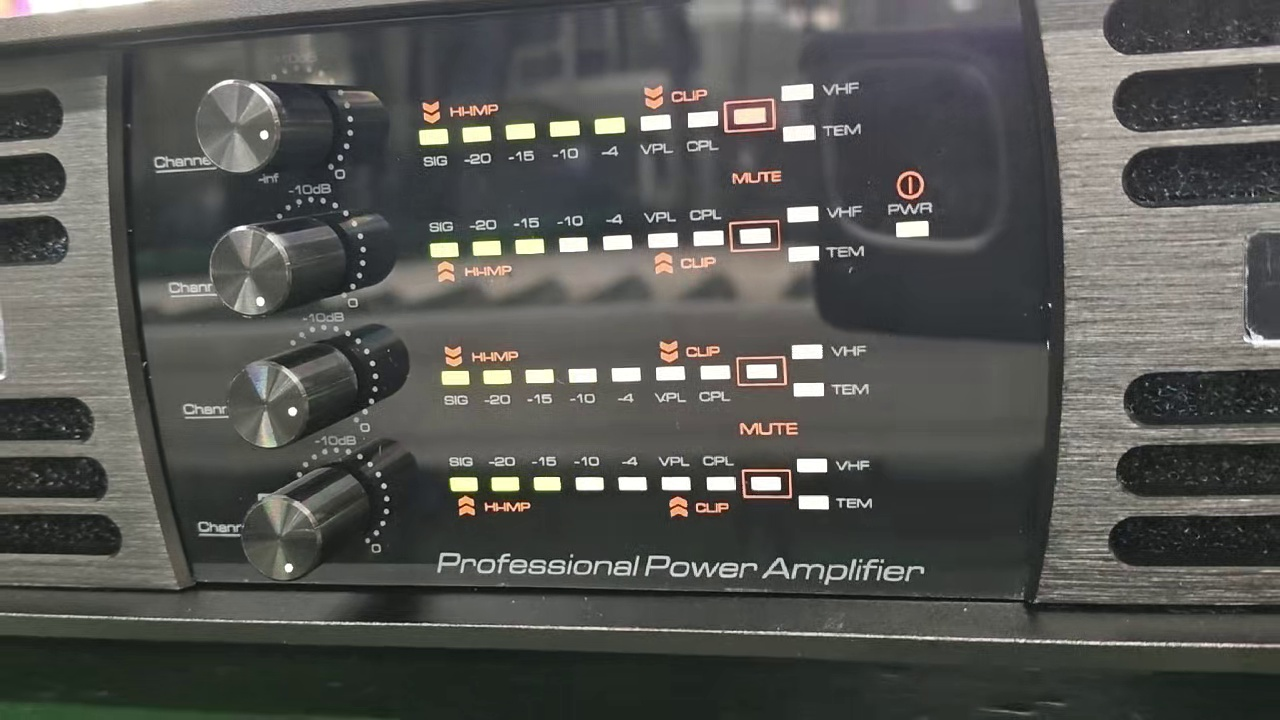FP_CPL: (692, 362, 736, 413), (684, 106, 722, 164), (687, 203, 727, 255), (701, 452, 742, 496)
FP_PWR: (886, 200, 936, 242)
FP_PWR_area: (883, 166, 937, 246)
FP_SIG_area: (413, 76, 870, 171), (419, 199, 870, 290), (441, 448, 874, 527), (433, 339, 877, 412)
FP_VPL: (637, 110, 675, 165), (651, 362, 692, 411), (642, 205, 681, 255), (656, 451, 693, 495)
